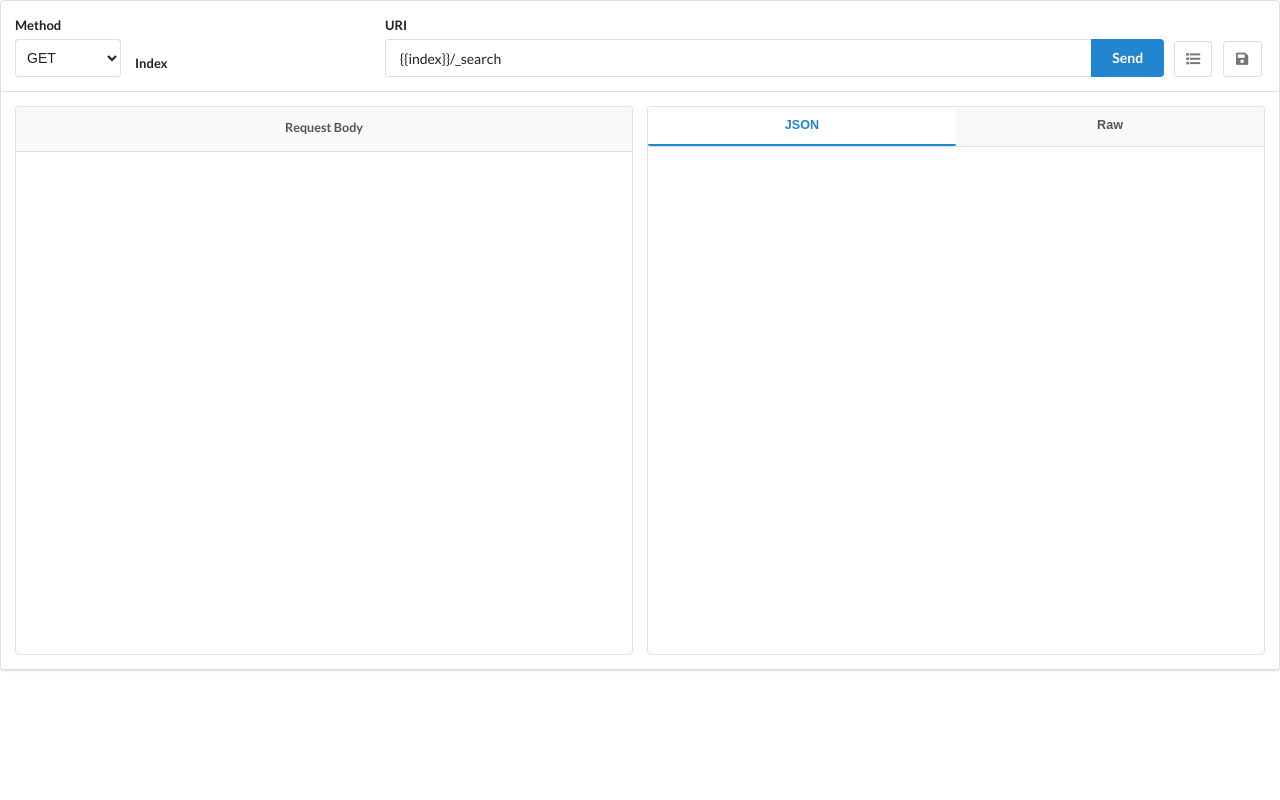
PlaygroundLayout response pane › opens a JSON response in the JSON view with a success badge
Step 1. Click the button "Send" → (1128, 58), box [1091,39,1164,77]
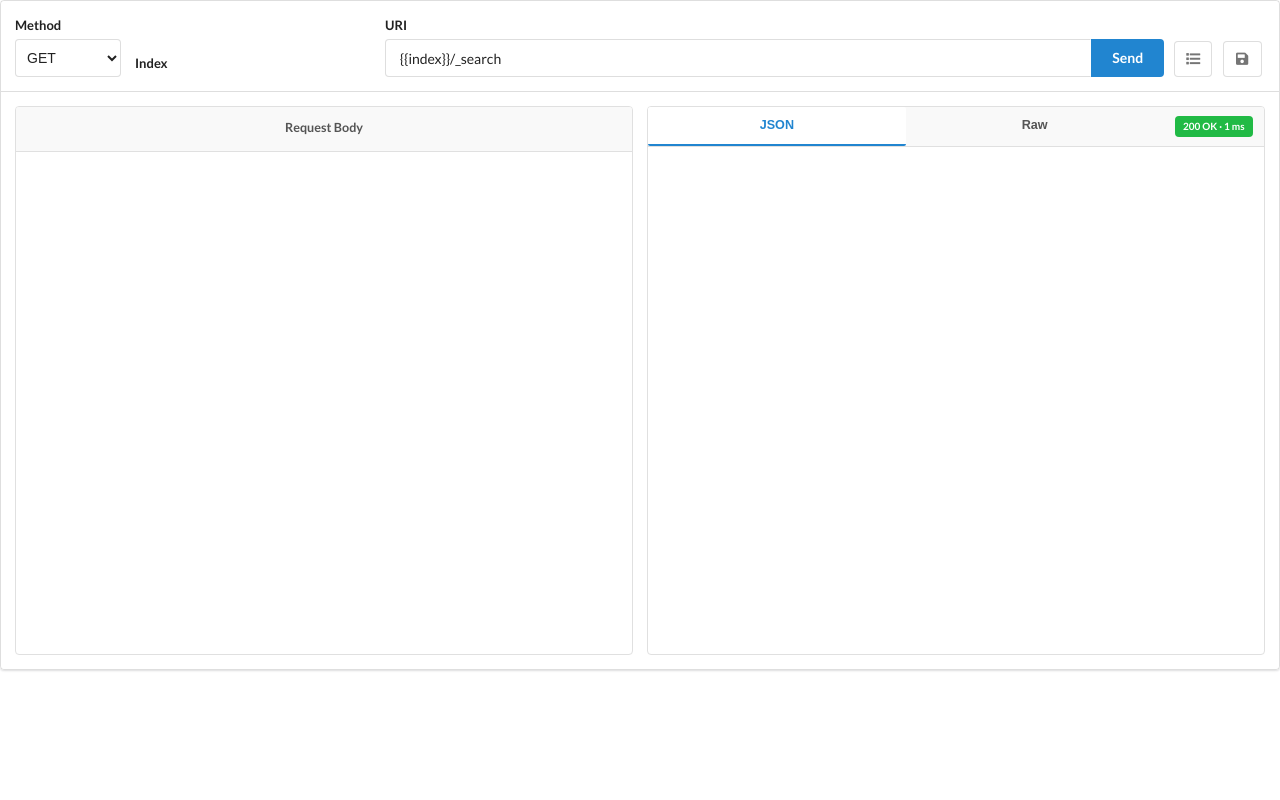
Now the text with test id "response-status" reads "200 OK · 1 ms", box [1183,120,1244,132]
